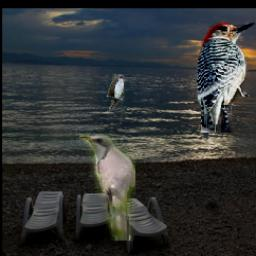Cuckoo: (78, 134, 134, 241), (107, 74, 128, 130)
Woodpecker: (194, 15, 256, 133)
